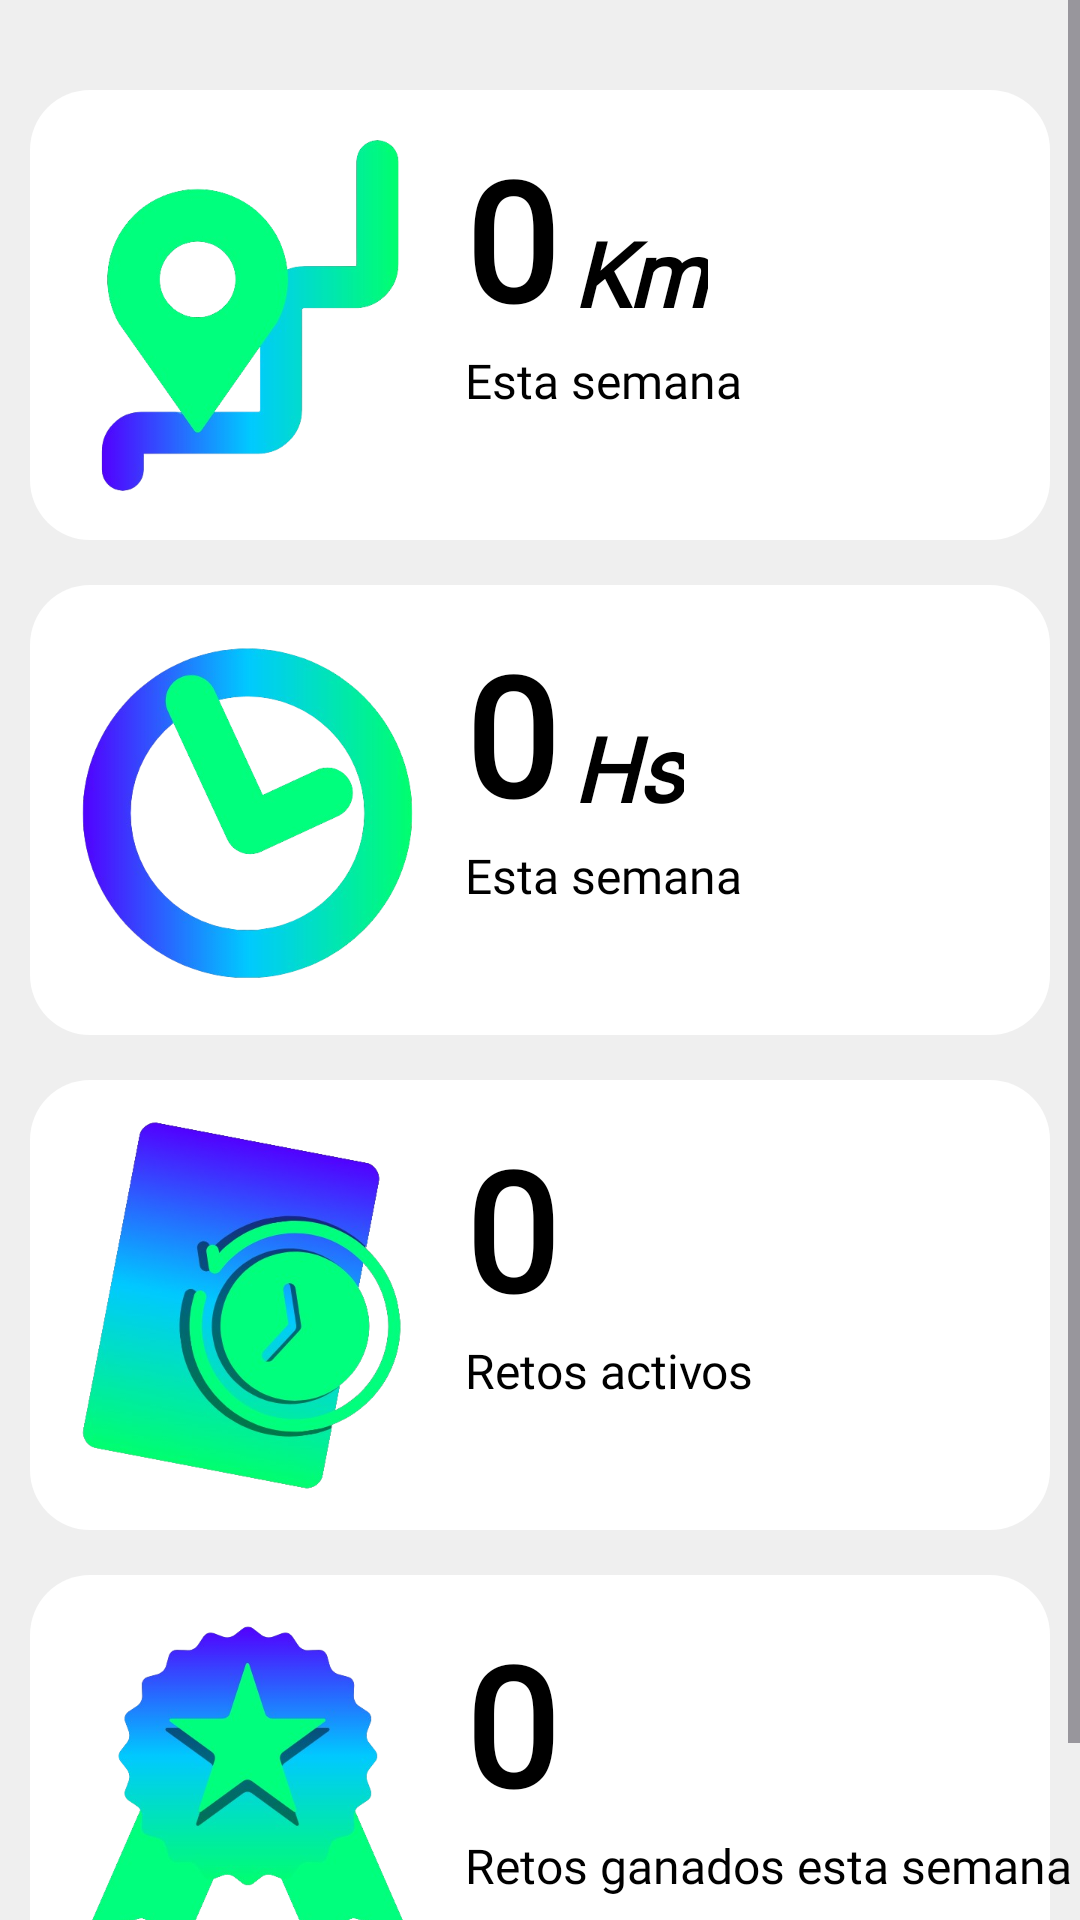

Icons on this 1080 x 1920 Android screen, each with its box as [left=x1, top=y1, right=x2, bottom=y2]:
deco km week: [left=102, top=140, right=399, bottom=491]
deco time week: [left=82, top=648, right=412, bottom=978]
